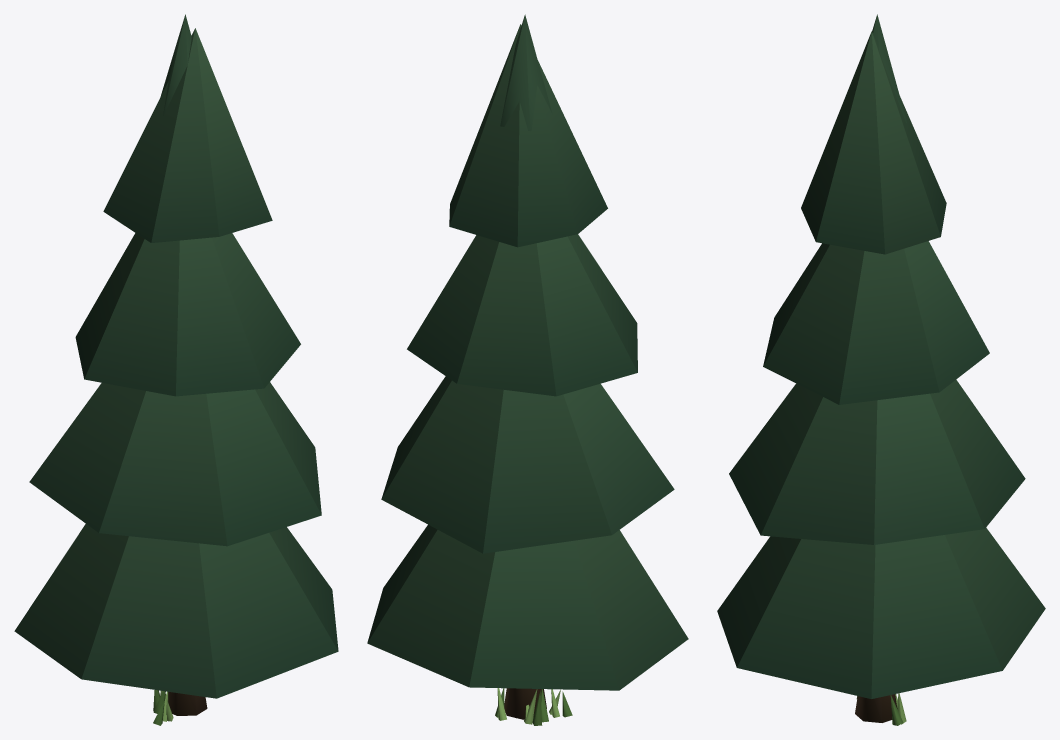
The model's file is spruce-tree.glb.
3 views of the same model, side by side, from view 1: azimuth 30°, elevation 25°; view 2: azimuth 150°, elevation 25°; view 3: azimuth 270°, elevation 25° (orthographic).
Visible parts, largest first — view 1: spruce_tree; view 2: spruce_tree; view 3: spruce_tree.
Boxes of the visible parts, x1,y1,x2,y2 form: spruce_tree: (14, 14, 338, 725); spruce_tree: (367, 14, 688, 725); spruce_tree: (717, 14, 1045, 725).
Size of the model in its own units: 2.59 by 6.21 by 2.63.
